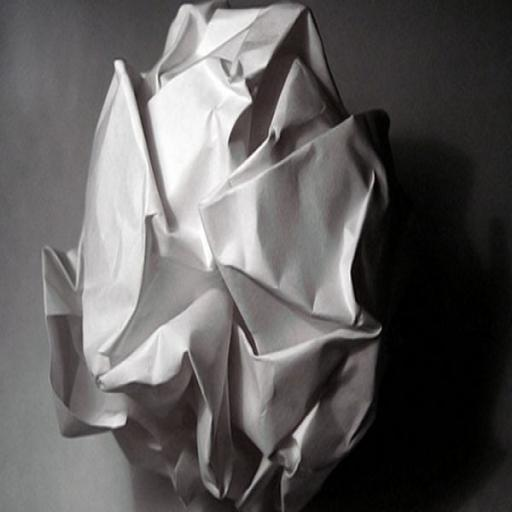Kertas: (40, 0, 404, 512)
